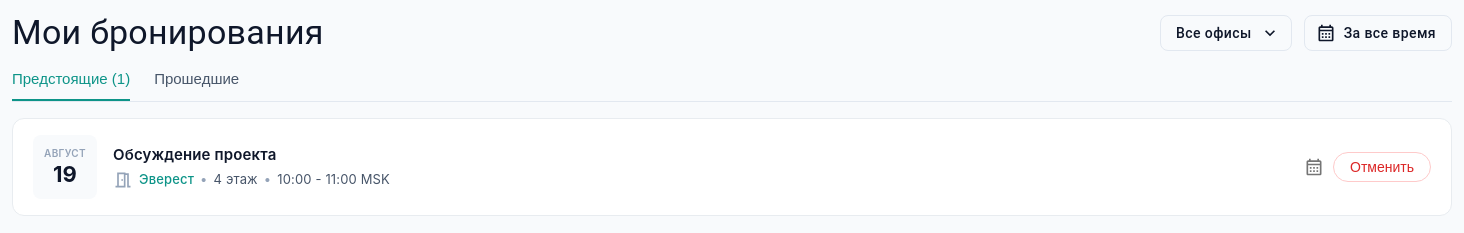
Scenario: BookingsPage › переключает вкладку на "Прошедшие" и показывает соответствующий список
The image size is (1464, 233).
Click the button "Прошедшие" at (197, 86), box [154, 70, 239, 101]
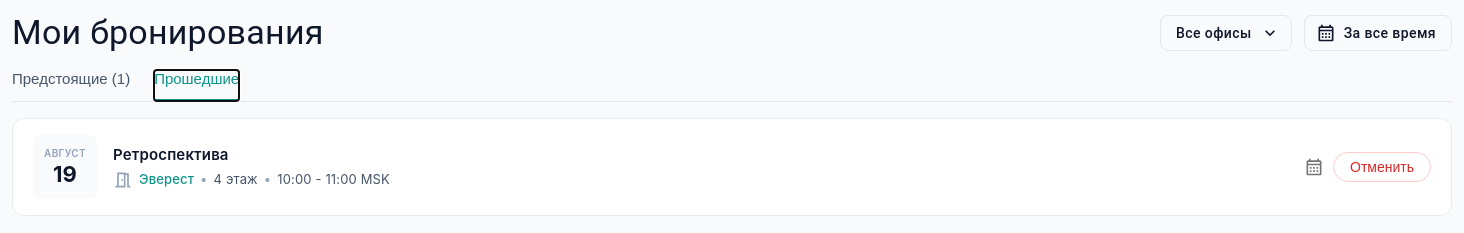
Check: the text "Ретроспектива" is shown, box [113, 145, 229, 164]
Check: the text "Обсуждение проекта" is gone
